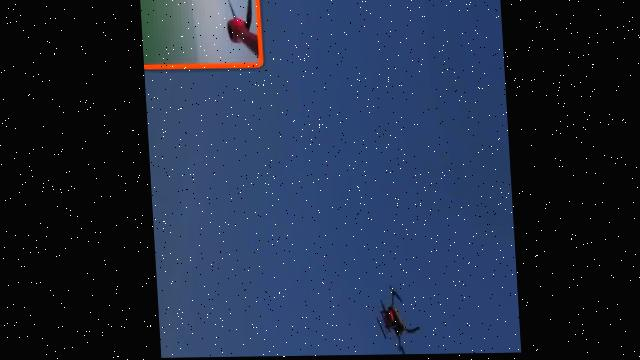drone: (365, 275, 423, 356)
